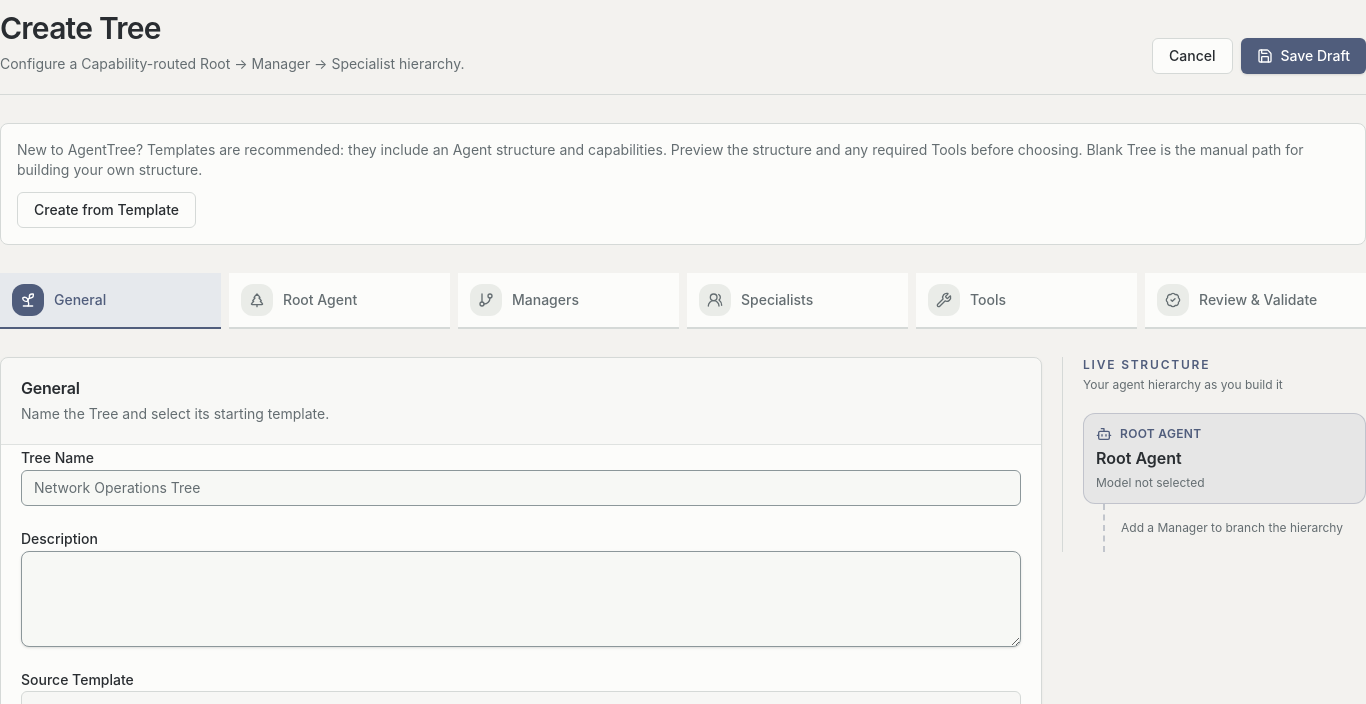
Test: keeps draft validation separate from the translated Ready action in en
In the field with placeholder "Network Operations Tree": coordinates (521, 488) [21,470,1021,506], type "Presentation draft"
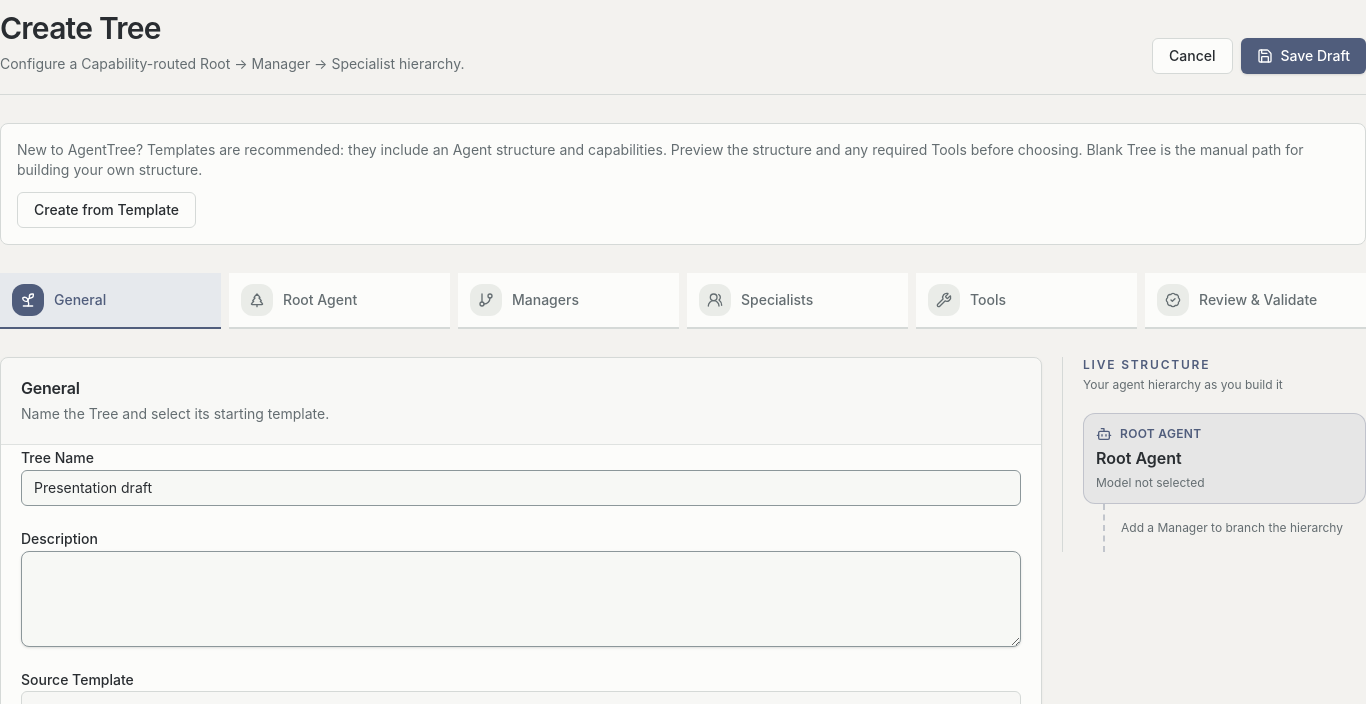
Click the button "Review & Validate": coordinates (1256, 301) [1145,273,1365,329]
(page scrolled)
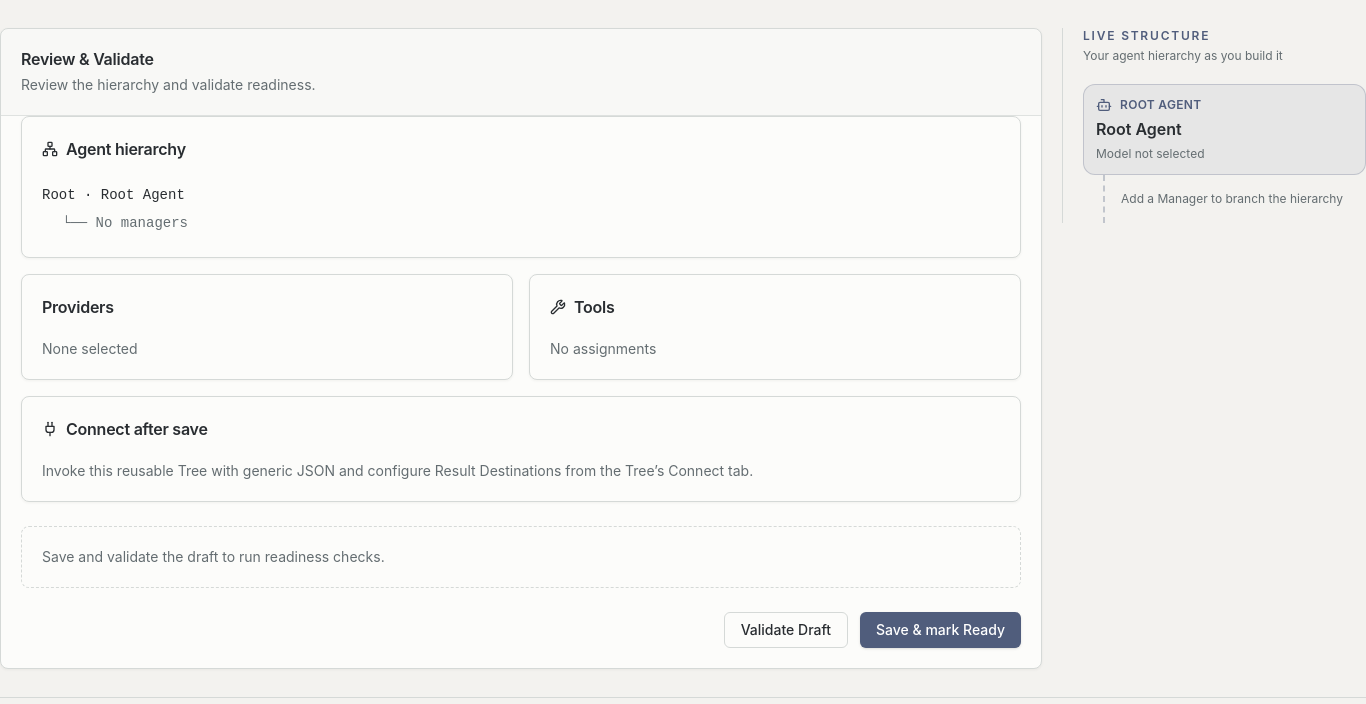
Expected: the button "Save & mark Ready" is shown, [860,612,1021,648]
Click the button "Validate Draft": coordinates (786, 630) [724,612,848,648]
(page scrolled)
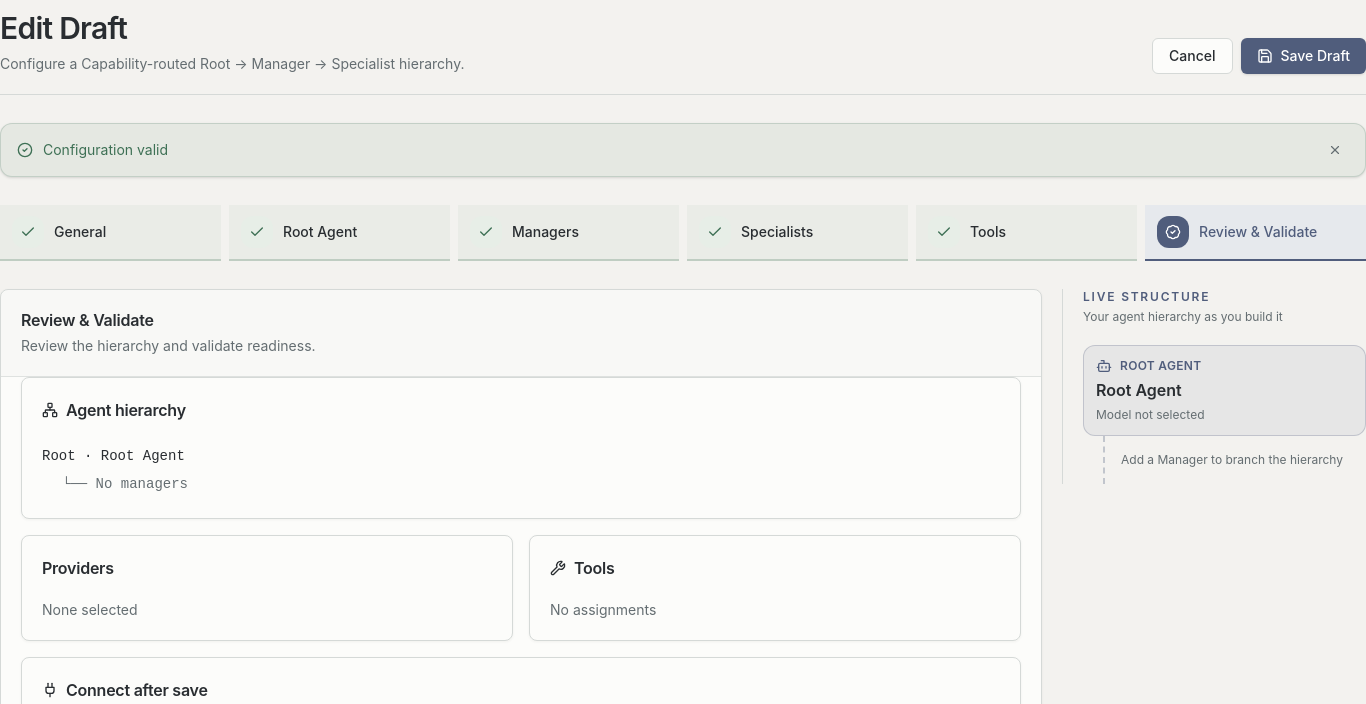
Expected: the text "Configuration valid" is shown, [43,140,168,160]
